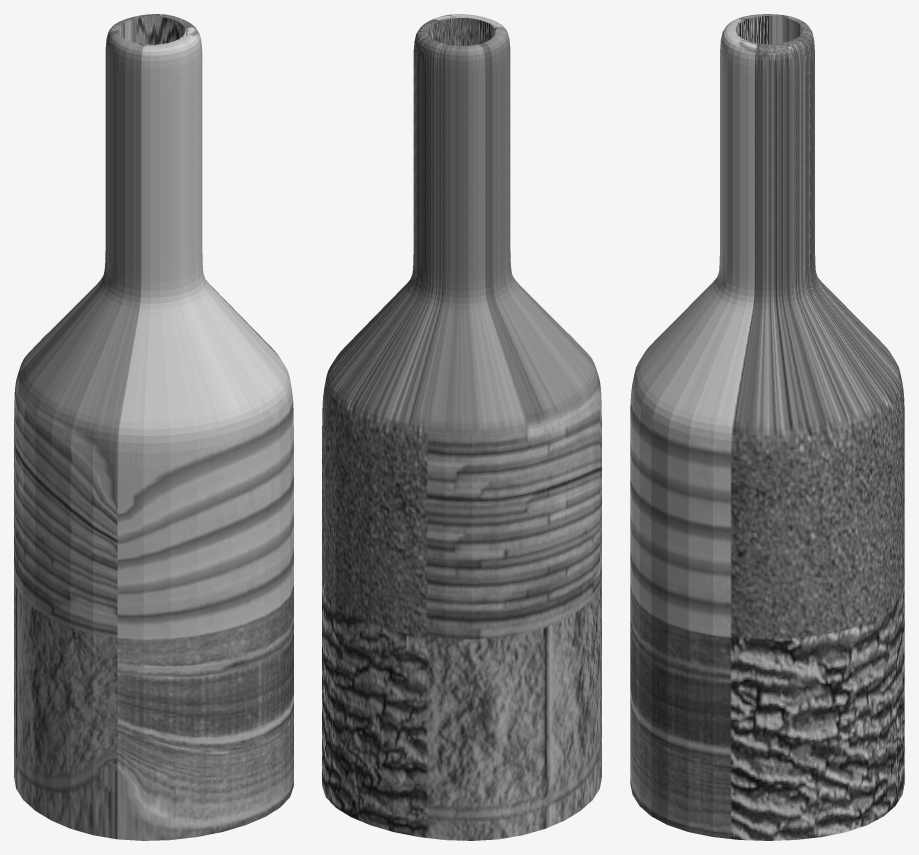
File: jarrón.fbx
3 renders of one model, left to right at view 1: azimuth 30°, elevation 25°; view 2: azimuth 150°, elevation 25°; view 3: azimuth 270°, elevation 25°, orthographic.
Parts seen in each view (by area): view 1: Cubo; view 2: Cubo; view 3: Cubo.
Part boxes in pixels (bbox=[...]): Cubo: bbox=[14, 14, 293, 840]; Cubo: bbox=[322, 14, 601, 840]; Cubo: bbox=[630, 14, 904, 840].
Size of the model in its own units: 183 by 554 by 183.
Materials: 1 (1 with a texture image).
